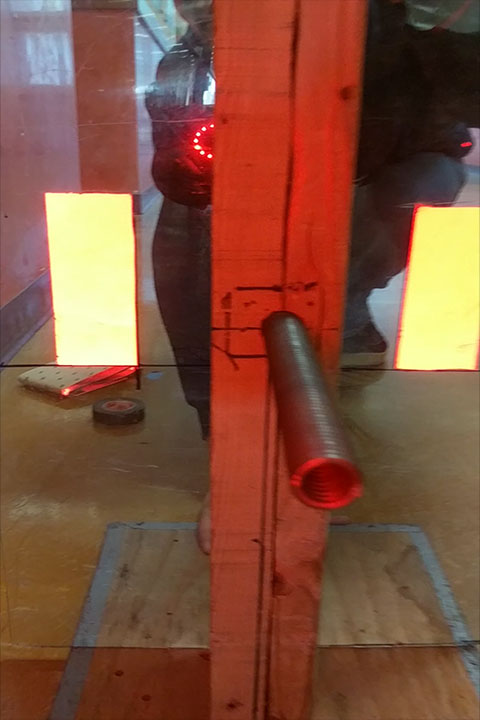gear: (42, 192, 139, 367), (394, 205, 480, 371)
